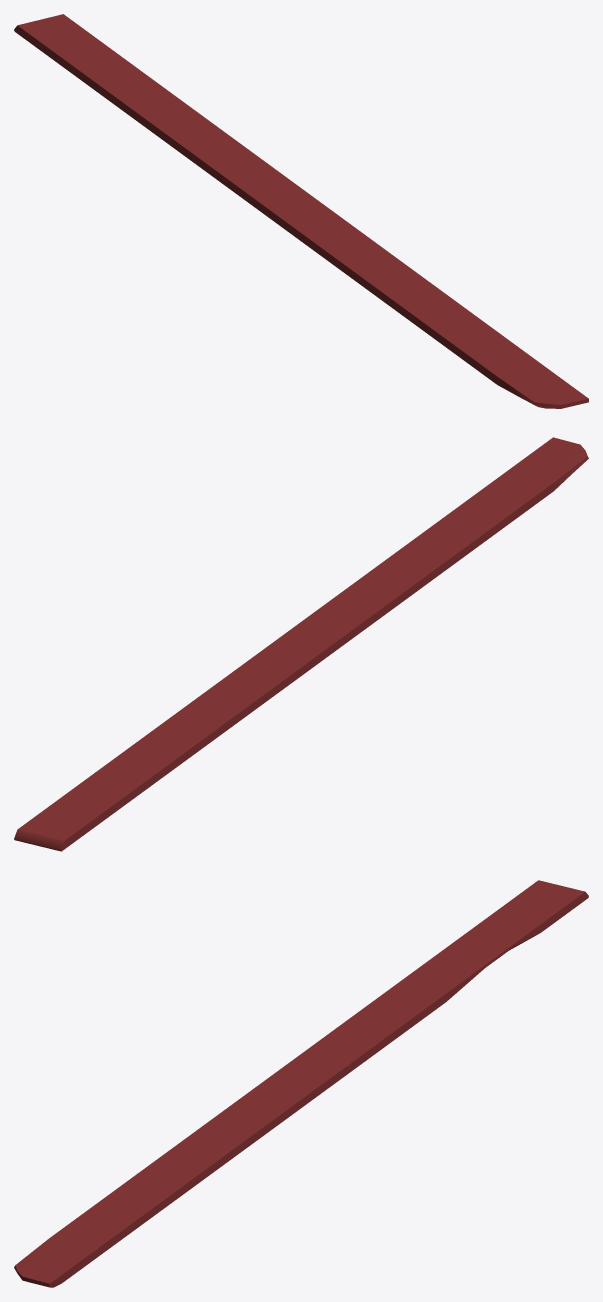
File: SM_WoodPlank02.fbx
3 renders of one model, top to bottom at view 1: azimuth 30°, elevation 25°; view 2: azimuth 150°, elevation 25°; view 3: azimuth 330°, elevation 25°, orthographic.
Visible parts, largest first — view 1: WoodPlank02; view 2: WoodPlank02; view 3: WoodPlank02.
Boxes of the visible parts, x1,y1,x2,y2 form: WoodPlank02: [14, 14, 588, 408]; WoodPlank02: [14, 437, 588, 851]; WoodPlank02: [14, 880, 588, 1287].
Bounding box in the file's own units: 15.1 × 2.62 × 300.
